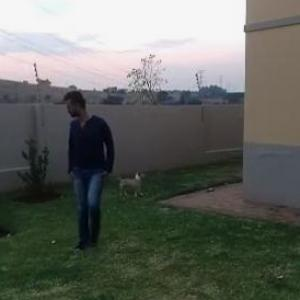follow: (65, 86, 118, 250)
